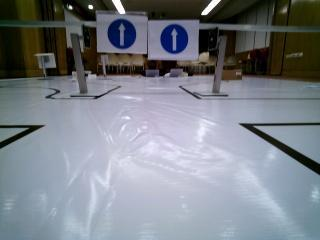straight: (148, 21, 202, 59), (99, 13, 148, 52)
